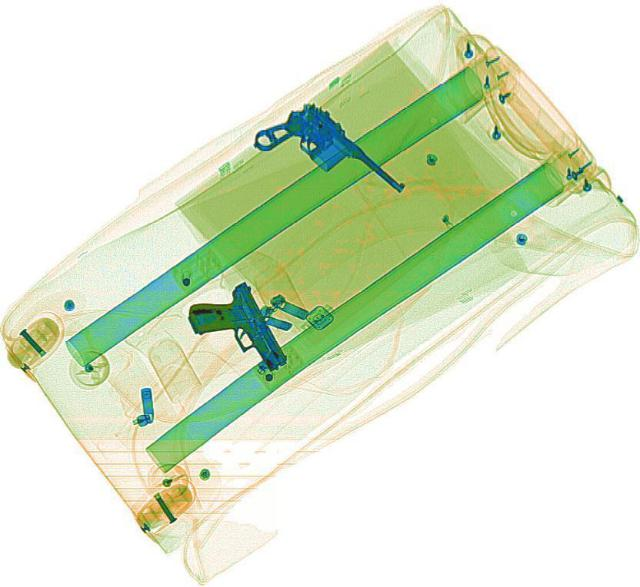Gun: (244, 91, 406, 230), (179, 279, 289, 386)
